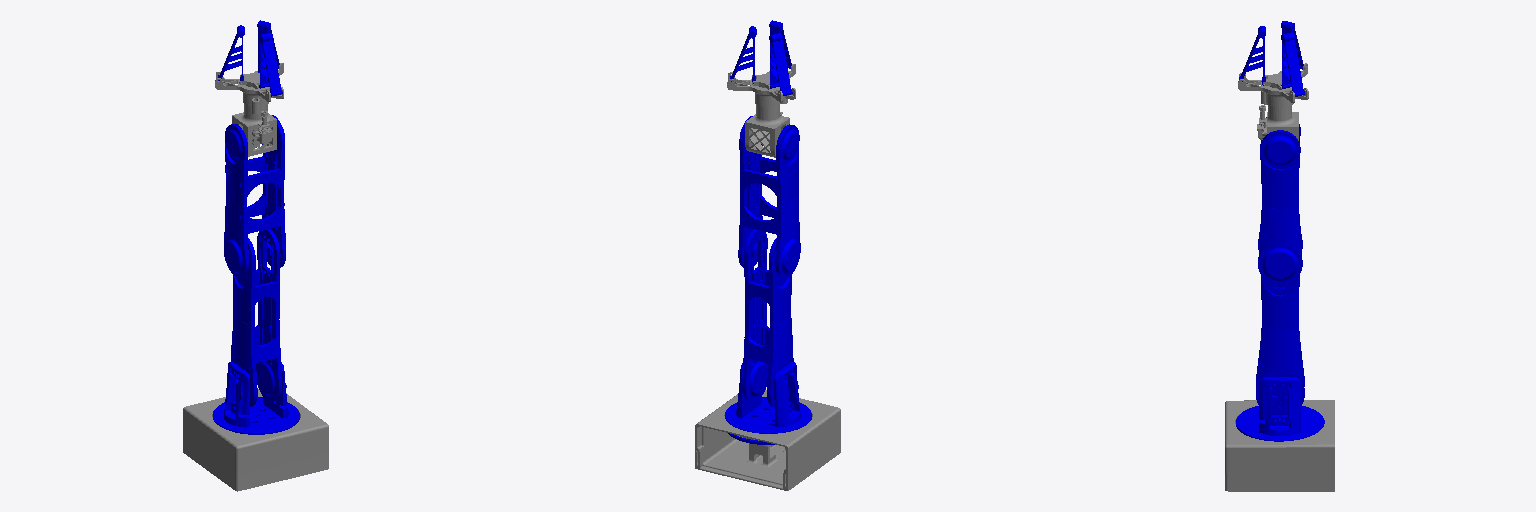
The robot description file, URDF, robot "arm":
<?xml version="1.0"?>
<robot name="arm">

<!-- Base Link -->
  <link name="base_link">
    <inertial>
      <mass value="5.0"/>
      <origin xyz="0 0 0" rpy="0 0 0"/>
      <inertia ixx="0.1" ixy="0.0" ixz="0.0" iyy="0.1" iyz="0.0" izz="0.1"/>
    </inertial>
    <visual>
      <geometry>
        <mesh filename="package://agrirover_description/meshes/Base.stl" scale="0.001 0.001 0.001"/>
      </geometry>
      <material name="gray">
        <color rgba="0.6 0.6 0.6 1"/>
      </material>
    </visual>
    <collision>
      <geometry>
        <mesh filename="package://agrirover_description/meshes/Base_simplified.stl" scale="0.001 0.001 0.001"/>
      </geometry>
      <origin xyz="0 0 0" rpy="0 0 0"/>
    </collision>
  </link>

<!-- Arm Link 0 -->
  <link name="arm_link_0">
    <inertial>
      <mass value="3.0"/>
      <origin xyz="0 0 0" rpy="0 0 0"/>
      <inertia ixx="0.05" ixy="0.0" ixz="0.0" iyy="0.05" iyz="0.0" izz="0.05"/>
    </inertial>
    <visual>
      <geometry>
        <mesh filename="package://agrirover_description/meshes/Link_0.stl" scale="0.001 0.001 0.001"/>
      </geometry>
      <material name="blue">
        <color rgba="0 0 1 1"/>
      </material>
    </visual>
    <collision>
      <geometry>
        <mesh filename="package://agrirover_description/meshes/Link_0_simplified.stl" scale="0.001 0.001 0.001"/>
      </geometry>
      <origin xyz="0 0 0" rpy="0 0 0"/>
    </collision>
  </link>

<!-- Arm Link 1 -->
  <link name="arm_link_1">
    <inertial>
      <mass value="2.0"/>
      <origin xyz="0 0 0" rpy="0 0 0"/>
      <inertia ixx="0.03" ixy="0.0" ixz="0.0" iyy="0.03" iyz="0.0" izz="0.03"/>
    </inertial>
    <visual>
      <geometry>
        <mesh filename="package://agrirover_description/meshes/Link_1.stl" scale="0.001 0.001 0.001"/>
      </geometry>
      <material name="blue">
        <color rgba="0 0 1 1"/>
      </material>
    </visual>
    <collision>
      <geometry>
        <mesh filename="package://agrirover_description/meshes/Link_1.stl" scale="0.001 0.001 0.001"/>
      </geometry>
      <origin xyz="0 0 0" rpy="0 0 0"/>
    </collision>
  </link>

<!-- Arm Link 2 -->
  <link name="arm_link_2">
    <inertial>
      <mass value="1.5"/>
      <origin xyz="0 0 0" rpy="0 0 0"/>
      <inertia ixx="0.02" ixy="0.0" ixz="0.0" iyy="0.02" iyz="0.0" izz="0.02"/>
    </inertial>
    <visual>
      <geometry>
        <mesh filename="package://agrirover_description/meshes/Link_2.stl" scale="0.001 0.001 0.001"/>
      </geometry>
      <material name="blue">
        <color rgba="0 0 1 1"/>
      </material>
    </visual>
    <collision>
      <geometry>
        <mesh filename="package://agrirover_description/meshes/Link_2_simplified.stl" scale="0.001 0.001 0.001"/>
      </geometry>
      <origin xyz="0 0 0" rpy="0 0 0"/>
    </collision>
  </link>

<!-- World Link -->
  <link name="world"/>

  <!-- World to Base Joint -->
  <joint name="world_to_base" type="fixed">
    <parent link="world"/>
    <child link="base_link"/>
    <origin xyz="0 0 0" rpy="0 0 0"/>
  </joint>

<!-- Gripper Base -->
  <link name="gripper">
    <inertial>
      <mass value="0.5"/>
      <origin xyz="0 0 0" rpy="0 0 0"/>
      <inertia ixx="0.005" ixy="0.0" ixz="0.0" iyy="0.005" iyz="0.0" izz="0.005"/>
    </inertial>
    <visual>
      <geometry>
        <mesh filename="package://agrirover_description/meshes/gripper.stl" scale="0.001 0.001 0.001"/>
      </geometry>
      <material name="gray">
        <color rgba="0.6 0.6 0.6 1"/>
      </material>
    </visual>
    <collision>
      <geometry>
        <mesh filename="package://agrirover_description/meshes/gripper_simplified.stl" scale="0.001 0.001 0.001"/>
      </geometry>
    </collision>
  </link>

<!-- Finger 1 -->
  <link name="finger_1">
    <inertial>
      <mass value="0.1"/>
      <origin xyz="0 0 0" rpy="0 0 0"/>
      <inertia ixx="0.001" ixy="0.0" ixz="0.0" iyy="0.001" iyz="0.0" izz="0.001"/>
    </inertial>
    <visual>
      <geometry>
        <mesh filename="package://agrirover_description/meshes/finger.stl" scale="0.001 0.001 0.001"/>
      </geometry>
      <material name="blue">
        <color rgba="0 0 1 1"/>
      </material>
    </visual>
    <collision>
      <geometry>
        <mesh filename="package://agrirover_description/meshes/finger.stl" scale="0.001 0.001 0.001"/>
      </geometry>
    </collision>
  </link>

<!-- Finger 2 -->
  <link name="finger_2">
    <inertial>
      <mass value="0.1"/>
      <origin xyz="0 0 0" rpy="0 0 0"/>
      <inertia ixx="0.001" ixy="0.0" ixz="0.0" iyy="0.001" iyz="0.0" izz="0.001"/>
    </inertial>
    <visual>
      <geometry>
        <mesh filename="package://agrirover_description/meshes/finger.stl" scale="0.001 0.001 0.001"/>
      </geometry>
      <material name="blue">
        <color rgba="0 0 1 1"/>
      </material>
    </visual>
    <collision>
      <geometry>
        <mesh filename="package://agrirover_description/meshes/finger.stl" scale="0.001 0.001 0.001"/>
      </geometry>
    </collision>
  </link>

<!-- Finger 3 -->
  <link name="finger_3">
    <inertial>
      <mass value="0.1"/>
      <origin xyz="0 0 0" rpy="0 0 0"/>
      <inertia ixx="0.001" ixy="0.0" ixz="0.0" iyy="0.001" iyz="0.0" izz="0.001"/>
    </inertial>
    <visual>
      <geometry>
        <mesh filename="package://agrirover_description/meshes/finger.stl" scale="0.001 0.001 0.001"/>
      </geometry>
      <material name="blue">
        <color rgba="0 0 1 1"/>
      </material>
    </visual>
    <collision>
      <geometry>
        <mesh filename="package://agrirover_description/meshes/finger.stl" scale="0.001 0.001 0.001"/>
      </geometry>
    </collision>
  </link>

<!-- Mimic Finger 2 Joint -->
  <joint name="finger_2_joint" type="revolute">
    <parent link="gripper"/>
    <child link="finger_2"/>
    <origin xyz="-0.0085 0.08 0.015" rpy="3.14 -2.0944 0"/>
    <axis xyz="0 0 1"/>
    <limit effort="10.0" velocity="1.0" lower="-0.5" upper="0.5"/>
    <mimic joint="finger_1_joint" multiplier="1" offset="0"/>
  </joint>

<!-- Mimic Finger 3 Joint -->
  <joint name="finger_3_joint" type="revolute">
    <parent link="gripper"/>
    <child link="finger_3"/>
    <origin xyz="-0.0085 0.08 -0.015" rpy="3.14 2.0944 0"/>
    <axis xyz="0 0 1"/>
    <limit effort="10.0" velocity="1.0" lower="-0.5" upper="0.5"/>
    <mimic joint="finger_1_joint" multiplier="1" offset="0"/>
  </joint>

<!-- Base to arm_link_0 Joint -->
  <joint name="base_to_link_0" type="revolute">
    <parent link="base_link"/>
    <child link="arm_link_0"/>
    <origin xyz="0 0 0.03" rpy="0 0 1.57"/>
    <axis xyz="0 0 1"/>
    <limit effort="10.0" velocity="1.0" lower="-1.57" upper="1.57"/>
  </joint>

<!-- arm_link_0 to arm_link_1 Joint -->
  <joint name="link_0_to_link_1" type="revolute">
    <parent link="arm_link_0"/>
    <child link="arm_link_1"/>
    <origin xyz="0 0 0.05" rpy="1.57 0 3.14"/>
    <axis xyz="0 0 1"/>
    <limit effort="10.0" velocity="1.0" lower="-1.57" upper="1.57"/>
  </joint>

<!-- arm_link_1 to arm_link_2 Joint -->
  <joint name="link_1_to_link_2" type="revolute">
    <parent link="arm_link_1"/>
    <child link="arm_link_2"/>
    <origin xyz="0 0.176 0" rpy="0 0 0"/>
    <axis xyz="0 0 1"/>
    <limit effort="10.0" velocity="1.0" lower="-2.0944" upper="2.0944"/>
  </joint>

<!-- arm_link_2 to gripper Joint -->
  <joint name="link_2_to_gripper" type="revolute">
    <parent link="arm_link_2"/>
    <child link="gripper"/>
    <origin xyz="0 0.155 0" rpy="0 0 0"/>
    <axis xyz="0 0 1"/>
    <limit effort="10.0" velocity="1.0" lower="-1.57" upper="1.57"/>
  </joint>

<!-- finger_1 Joint -->
  <joint name="finger_1_joint" type="revolute">
    <parent link="gripper"/>
    <child link="finger_1"/>
    <origin xyz="0.02 0.08 -0.001" rpy="3.14 0 0"/>
    <axis xyz="0 0 1"/>
    <limit effort="10.0" velocity="1.0" lower="-0.15" upper="0.8"/>
  </joint>

</robot>

--- Facts derived from the render (not from the file) ---
3 views of the same robot in one strip: view 1: azimuth 30°, elevation 25°; view 2: azimuth 150°, elevation 25°; view 3: azimuth 270°, elevation 25° (orthographic).
Model arm with 9 links and 8 joints (7 revolute, 1 fixed), rooted at world, posed all joints at 0.
Visible links, largest first — view 1: base_link, arm_link_1, arm_link_2, arm_link_0, gripper, finger_1; view 2: base_link, arm_link_1, arm_link_2, arm_link_0, gripper, finger_2, finger_3; view 3: base_link, arm_link_2, arm_link_1, arm_link_0, gripper, finger_3, finger_1.
Link boxes in pixels (x1=…): base_link: x1=183, y1=389, x2=328, y2=491; arm_link_1: x1=231, y1=229, x2=281, y2=406; arm_link_2: x1=224, y1=115, x2=285, y2=277; arm_link_0: x1=213, y1=362, x2=299, y2=434; gripper: x1=215, y1=63, x2=283, y2=156; finger_1: x1=259, y1=33, x2=282, y2=96; base_link: x1=695, y1=390, x2=840, y2=490; arm_link_1: x1=742, y1=229, x2=793, y2=407; arm_link_2: x1=738, y1=116, x2=800, y2=277; arm_link_0: x1=725, y1=362, x2=811, y2=444; gripper: x1=727, y1=64, x2=795, y2=157; finger_2: x1=769, y1=33, x2=792, y2=95; finger_3: x1=730, y1=26, x2=756, y2=83; base_link: x1=1225, y1=400, x2=1334, y2=491; arm_link_2: x1=1258, y1=117, x2=1302, y2=284; arm_link_1: x1=1256, y1=245, x2=1304, y2=416; arm_link_0: x1=1236, y1=377, x2=1324, y2=441; gripper: x1=1238, y1=63, x2=1308, y2=140; finger_3: x1=1281, y1=32, x2=1304, y2=96; finger_1: x1=1239, y1=26, x2=1265, y2=85.
Size in the robot's own frame: 0.1333 by 0.1337 by 0.5905 metres.
8 mesh visuals loaded from 6 distinct referenced files (6 binary STL).